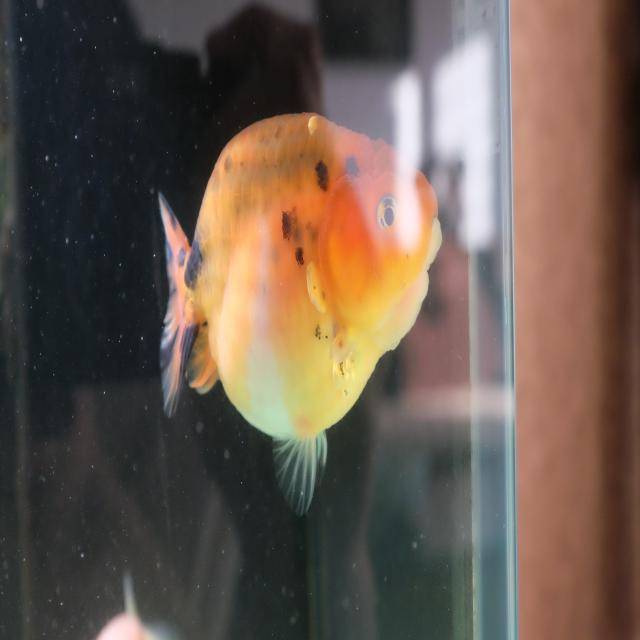Tilapia: (158, 111, 443, 518)
